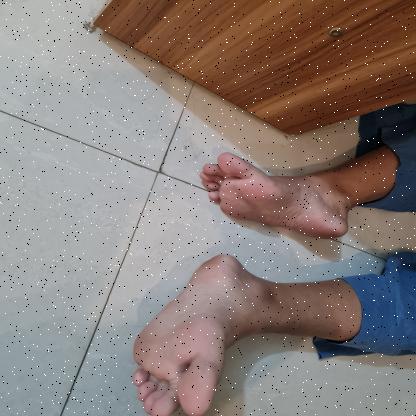leg: (125, 249, 360, 415), (189, 136, 394, 245)
